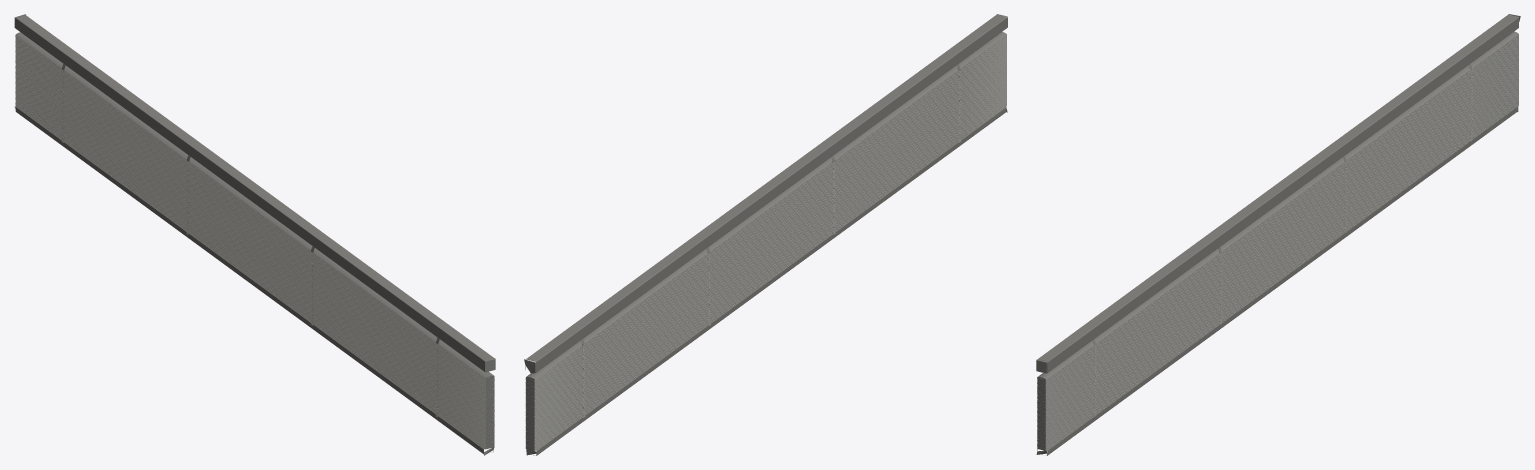
File: blinds_window_4m_closed_a01.glb
3 views of the same model, side by side, from view 1: azimuth 30°, elevation 25°; view 2: azimuth 150°, elevation 25°; view 3: azimuth 330°, elevation 25° (orthographic).
Parts seen in each view (by area): view 1: geometry_0; view 2: geometry_0; view 3: geometry_0.
Boxes of the visible parts, x1,y1,x2,y2 form: geometry_0: (14, 14, 495, 455); geometry_0: (524, 14, 1007, 455); geometry_0: (1036, 14, 1520, 455).
Bounding box in the file's own units: 0.00629 × 0.0471 × 0.42.
Materials: 1 (1 with a texture image).
